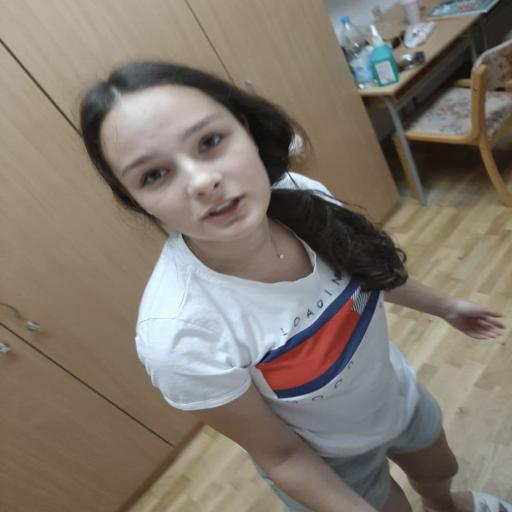marija: (98, 90, 272, 242)
